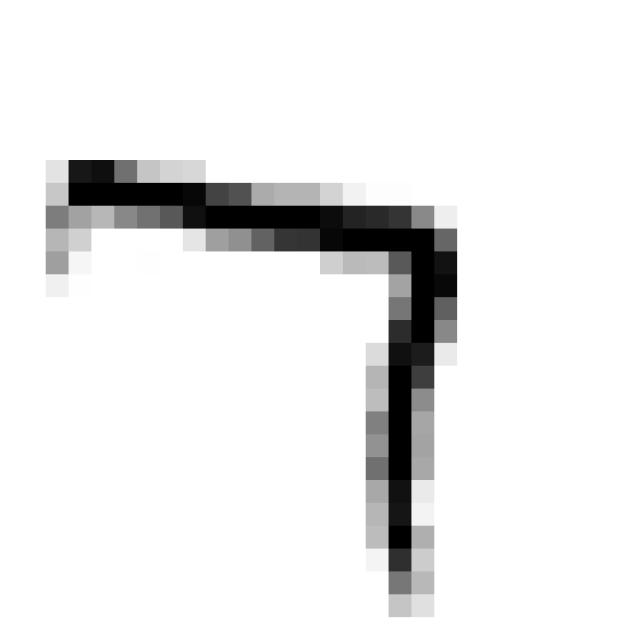6 -six-: (25, 140, 473, 626)
